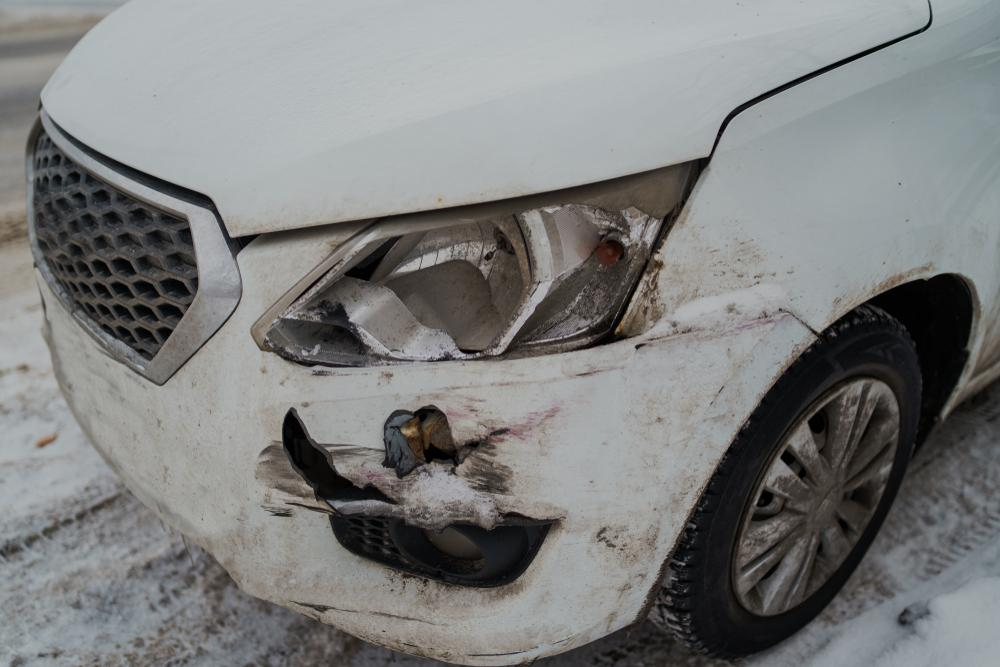crack: (280, 406, 403, 507), (413, 403, 513, 468)
lamp broken: (260, 164, 695, 364)
scratch: (248, 440, 326, 517), (459, 439, 519, 498)
